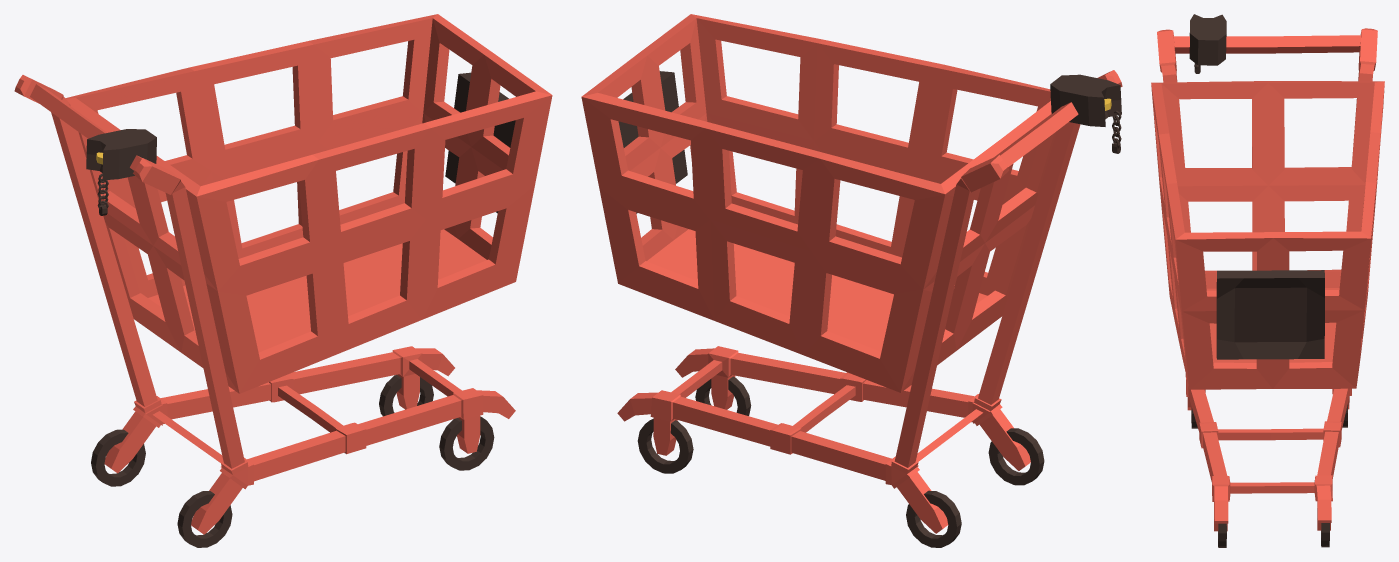
Rendered from cart_red.fbx.
3 renders of one model, left to right at view 1: azimuth 30°, elevation 25°; view 2: azimuth 150°, elevation 25°; view 3: azimuth 270°, elevation 25°, orthographic. The views are drawn at different scales.
Visible parts, largest first — view 1: Cart, chain_1; view 2: Cart, chain_1; view 3: Cart, chain_1.
Boxes of the visible parts, x1,y1,x2,y2 form: Cart: (14, 14, 552, 534); chain_1: (86, 72, 515, 547); Cart: (581, 14, 1122, 533); chain_1: (618, 71, 1121, 547); Cart: (1151, 28, 1384, 531); chain_1: (1189, 14, 1347, 547).
Bounding box in the file's own units: 121 × 109 × 62.35.
1 material, 1 textured.
